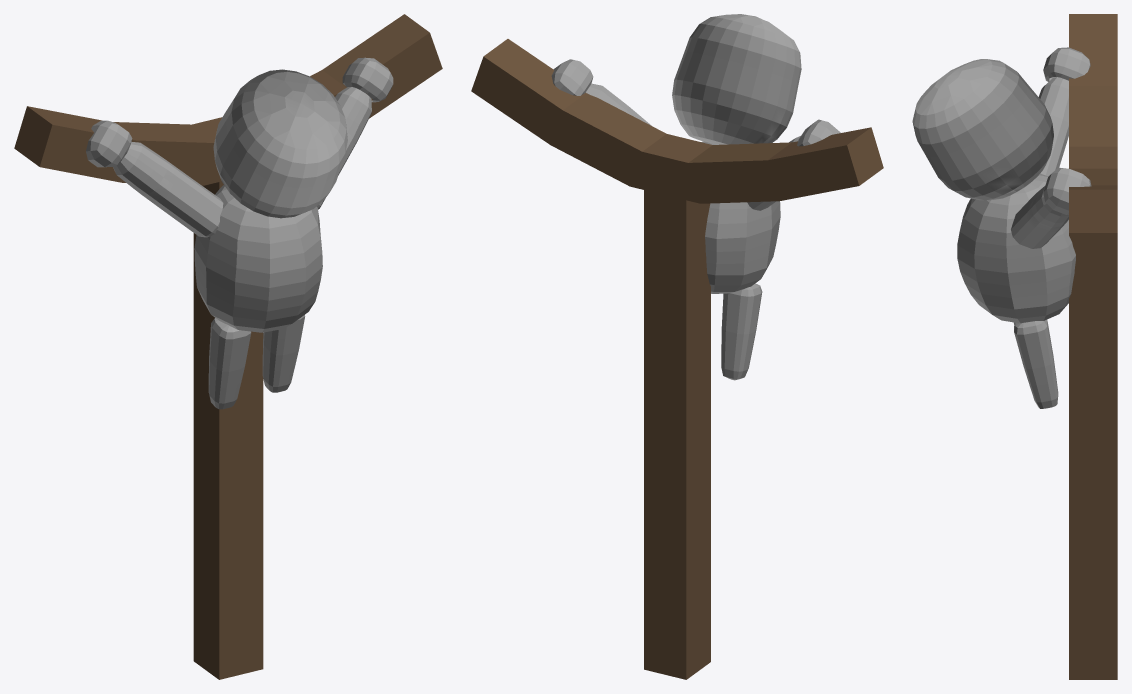
Rendered from hangman_1.glb.
The picture shows the model from 3 angles, left to right: view 1: azimuth 30°, elevation 25°; view 2: azimuth 150°, elevation 25°; view 3: azimuth 270°, elevation 25°; orthographic projection. The views are drawn at different scales.
Parts seen in each view (by area): view 1: Crucifiction Pole.054; view 2: Crucifiction Pole.054; view 3: Crucifiction Pole.054.
Part boxes in pixels (left/top/right/bottom): Crucifiction Pole.054: left=14, top=14, right=442, bottom=679; Crucifiction Pole.054: left=471, top=14, right=883, bottom=679; Crucifiction Pole.054: left=912, top=14, right=1117, bottom=679.
Bounding box in the file's own units: 0.1113 × 0.1668 × 0.0515.
